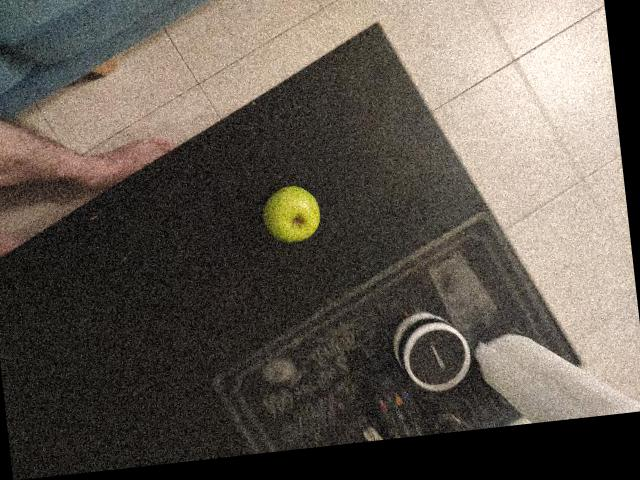apple: (336, 73, 408, 144)
